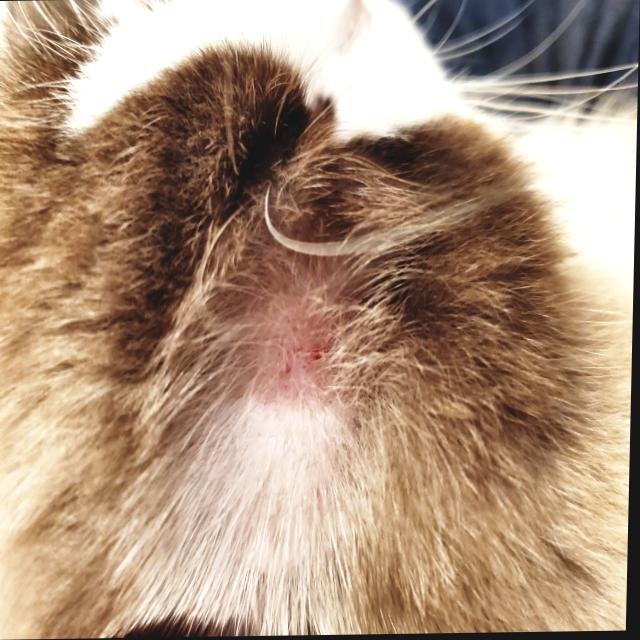ringworm: (257, 293, 359, 403)
